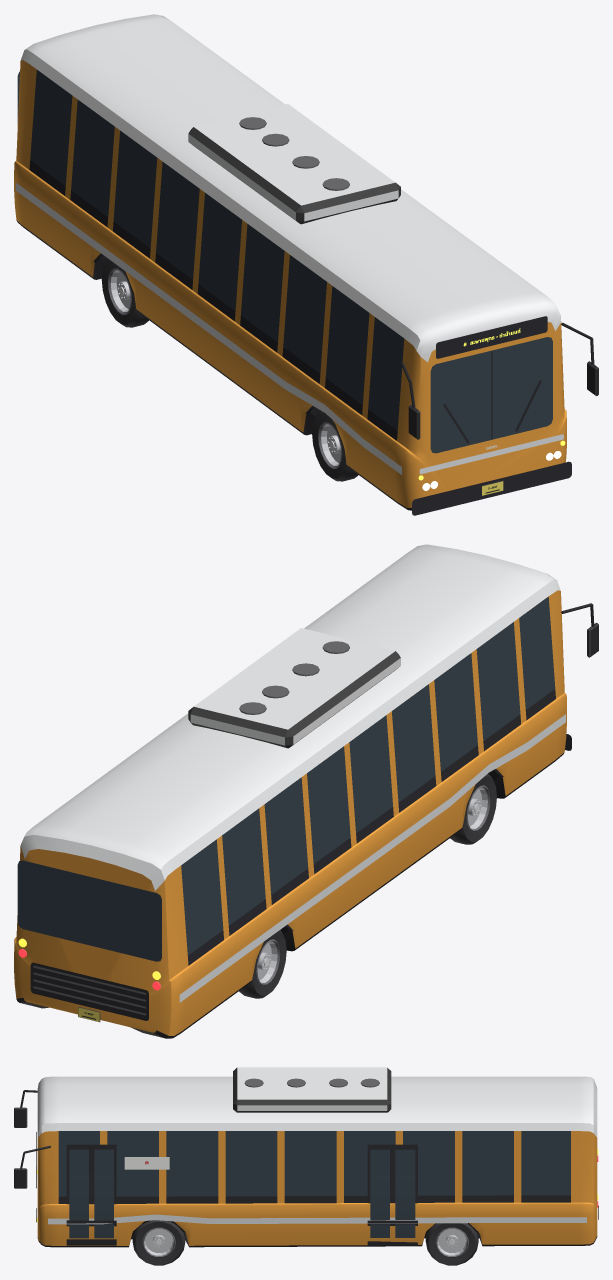
File: SM_Bus.fbx
The picture shows the model from 3 angles, top to bottom: view 1: azimuth 30°, elevation 25°; view 2: azimuth 150°, elevation 25°; view 3: azimuth 270°, elevation 25°; orthographic projection. The views are drawn at different scales.
Parts seen in each view (by area): view 1: Body.008, Wheel_FR.004, Wheel_RR.006; view 2: Body.008, Wheel_FR.004, Wheel_RR.006; view 3: Body.008, Wheel_FL.004, Wheel_RL.006.
Boxes of the visible parts, x1,y1,x2,y2 form: Body.008: (14, 14, 598, 515); Wheel_FR.004: (312, 410, 358, 481); Wheel_RR.006: (101, 258, 148, 327); Body.008: (14, 544, 598, 1038); Wheel_FR.004: (450, 774, 496, 844); Wheel_RR.006: (239, 930, 286, 998); Body.008: (14, 1067, 598, 1247); Wheel_FL.004: (132, 1220, 185, 1265); Wheel_RL.006: (425, 1223, 478, 1265).
Size of the model in its own units: 2.8 by 3.31 by 11.07.
